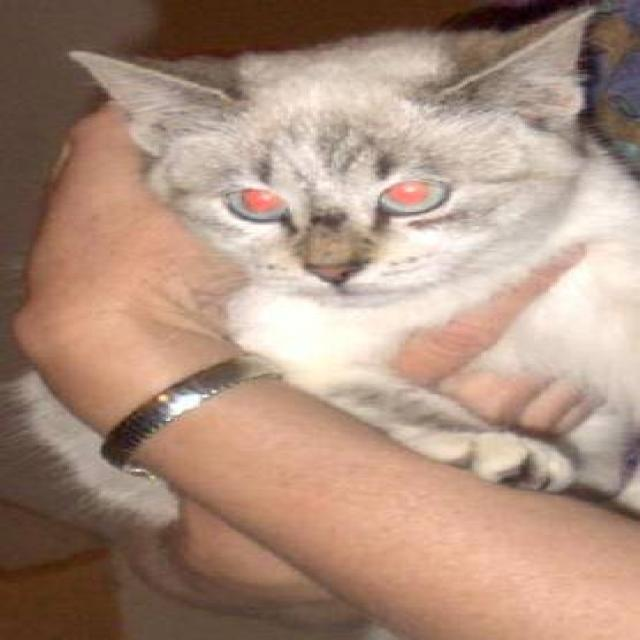Cat: (78, 7, 607, 308)
